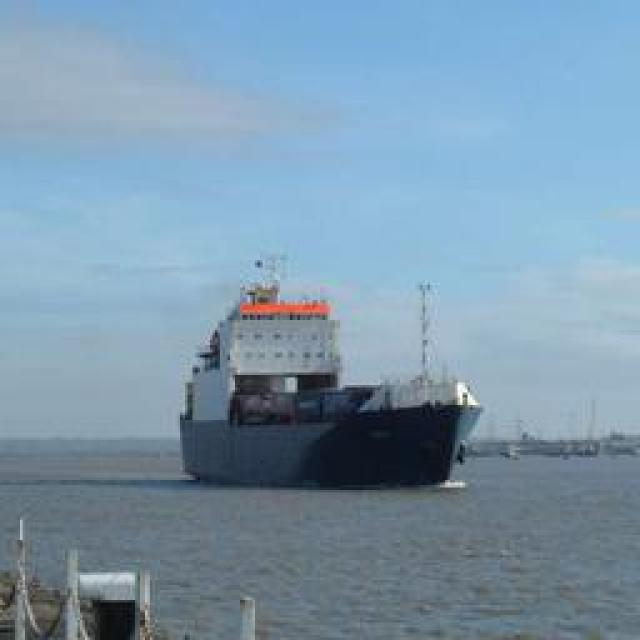ship2: (178, 245, 484, 491)
